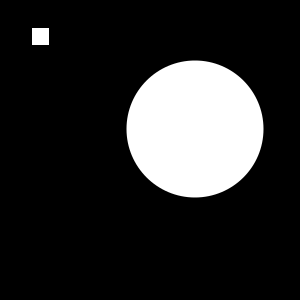circle: (32, 28, 49, 45)
rectangle: (126, 60, 264, 198)
